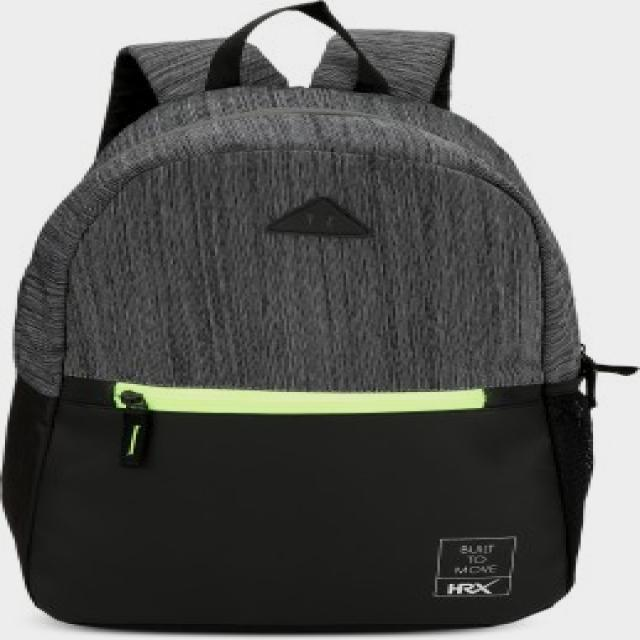backpack: (1, 1, 639, 633)
